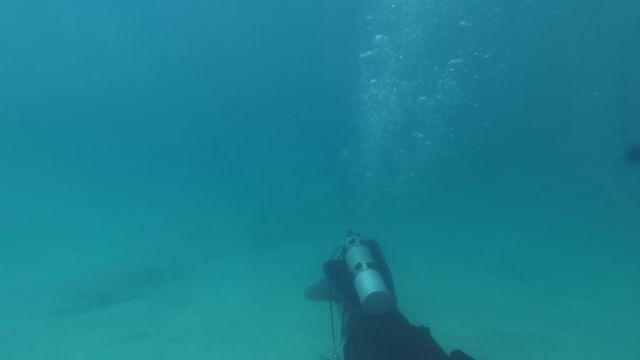Diver: (295, 230, 471, 354)
